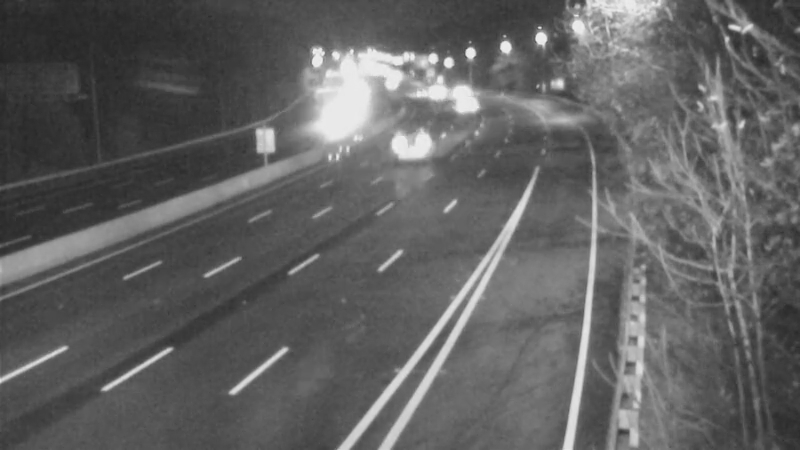vehicle: (364, 61, 414, 111), (414, 64, 464, 114), (394, 71, 444, 121), (436, 68, 486, 118), (445, 78, 495, 128), (395, 105, 445, 155)
